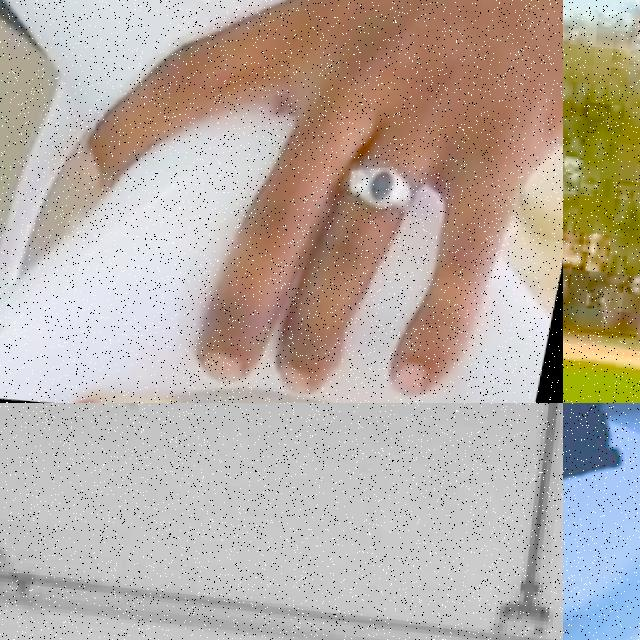drone: (0, 0, 563, 403), (563, 403, 640, 640)
